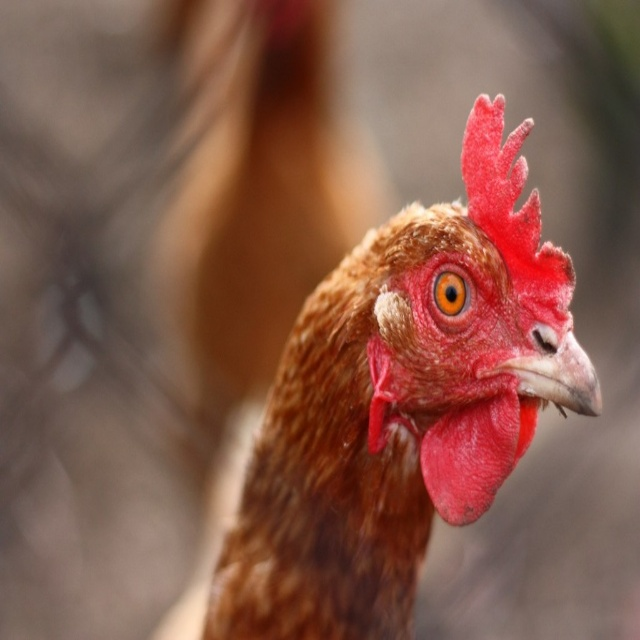Chicken: (201, 94, 602, 640)
